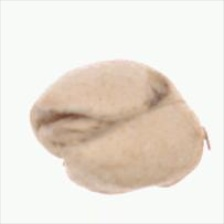L3: (28, 107, 119, 168)
L4: (30, 60, 205, 195)
